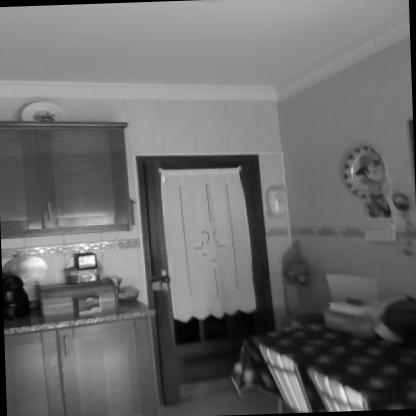closed: (124, 141, 282, 398)
